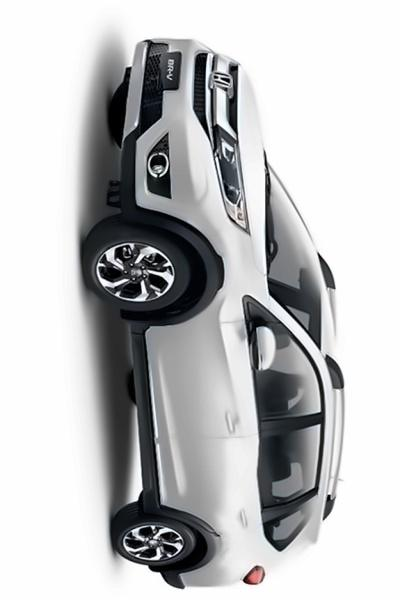Car hood: (236, 55, 275, 303)
Fender - -F-L-: (140, 227, 280, 331)
Fender - -R-L-: (198, 531, 281, 573)
Front bumper: (115, 30, 212, 221)
Headlight - -L-: (203, 115, 251, 239)
Passenger-s door - -F-L-: (138, 331, 341, 435)
Passenger-s door - -R-L-: (148, 436, 337, 531)
Rear bumper: (148, 553, 221, 598)
Rear light - -L-: (237, 560, 270, 589)
Side bumper - -L-: (127, 316, 168, 520)
Side mirror - -L-: (241, 316, 281, 377)
